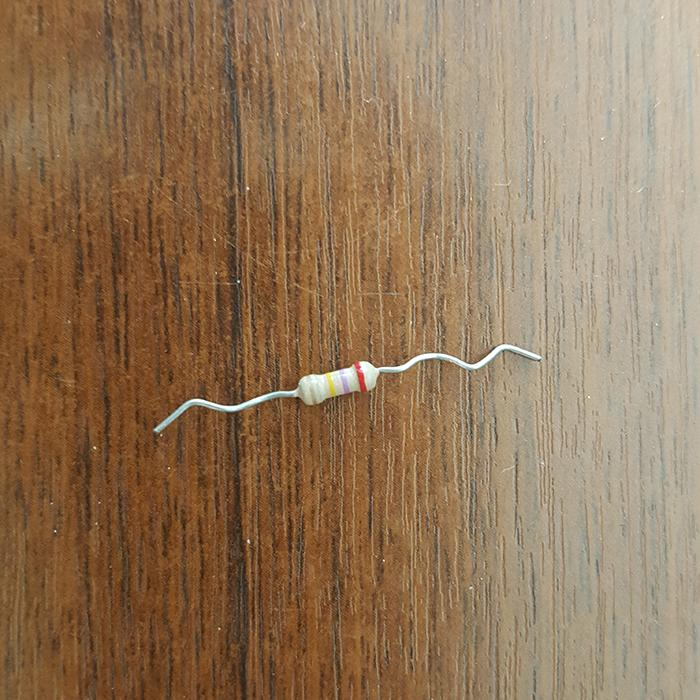resistor: (296, 359, 382, 405)
